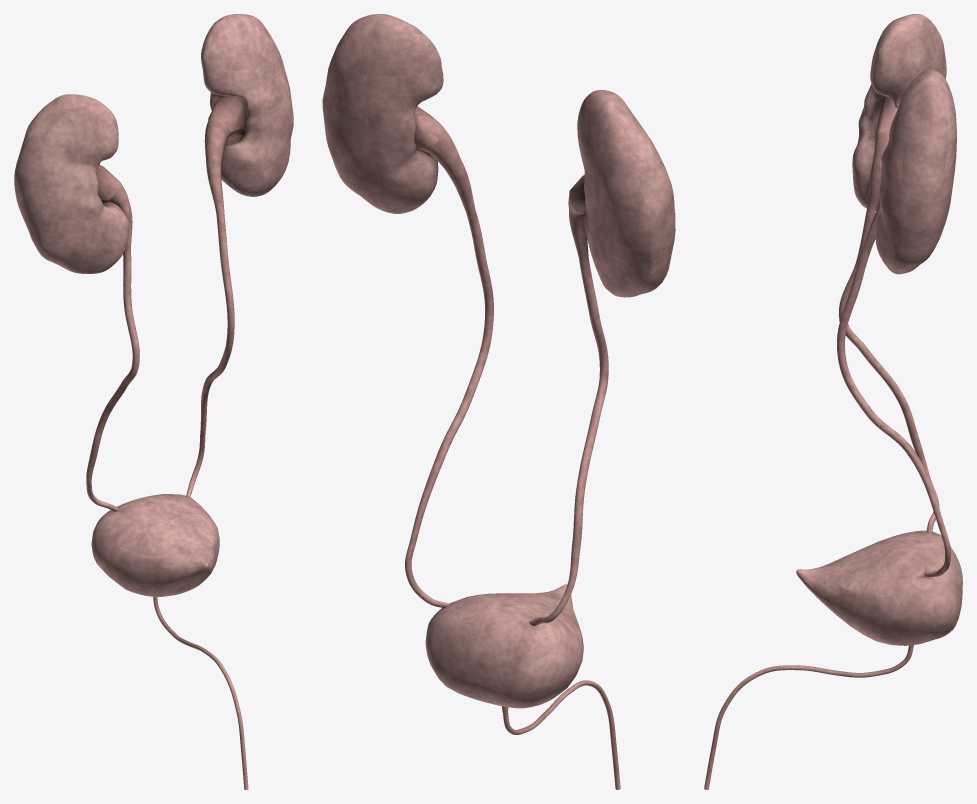
Rendered from urinary.opt.glb.
The picture shows the model from 3 angles, left to right: view 1: azimuth 30°, elevation 25°; view 2: azimuth 150°, elevation 25°; view 3: azimuth 270°, elevation 25°; orthographic projection. The views are drawn at different scales.
Visible parts, largest first — view 1: kidney-r, kidney-l, urinary-bladder, ureter-l, ureter-r, urethra, renal-pelvis-l, renal-pelvis-r; view 2: kidney-l, kidney-r, urinary-bladder, ureter-l, ureter-r, urethra, renal-pelvis-l; view 3: urinary-bladder, kidney-l, kidney-r, ureter-l, ureter-r, urethra, renal-pelvis-r.
Boxes of the visible parts, bbox=[...] form: kidney-r: bbox=[14, 94, 129, 273]; kidney-l: bbox=[201, 14, 293, 196]; urinary-bladder: bbox=[91, 494, 219, 596]; ureter-l: bbox=[186, 119, 234, 497]; ureter-r: bbox=[86, 181, 139, 511]; urethra: bbox=[153, 597, 248, 789]; renal-pelvis-l: bbox=[208, 96, 246, 134]; renal-pelvis-r: bbox=[96, 165, 119, 202]; kidney-l: bbox=[322, 14, 443, 213]; kidney-r: bbox=[577, 90, 675, 297]; urinary-bladder: bbox=[425, 584, 583, 708]; ureter-l: bbox=[405, 122, 493, 607]; ureter-r: bbox=[529, 196, 608, 625]; urethra: bbox=[502, 680, 620, 789]; renal-pelvis-l: bbox=[414, 106, 438, 149]; urinary-bladder: bbox=[796, 530, 962, 645]; kidney-l: bbox=[875, 69, 956, 274]; kidney-r: bbox=[852, 14, 946, 210]; ureter-l: bbox=[837, 203, 950, 576]; ureter-r: bbox=[838, 132, 939, 532]; urethra: bbox=[704, 645, 913, 789]; renal-pelvis-r: bbox=[875, 96, 898, 135].
Size of the model in its own units: 0.178 by 0.4203 by 0.1293.
Materials: 2 (2 with a texture image).
